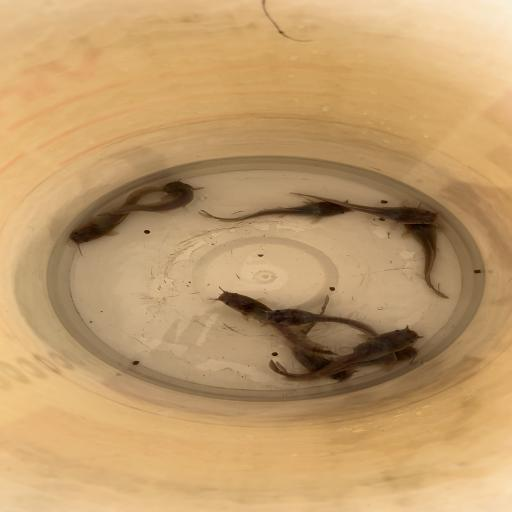lele: (266, 324, 422, 388), (211, 288, 339, 356), (68, 186, 164, 258), (290, 295, 352, 385), (285, 191, 441, 226), (396, 225, 456, 299), (94, 179, 204, 217), (198, 199, 351, 225), (261, 308, 378, 338), (343, 341, 426, 368)
